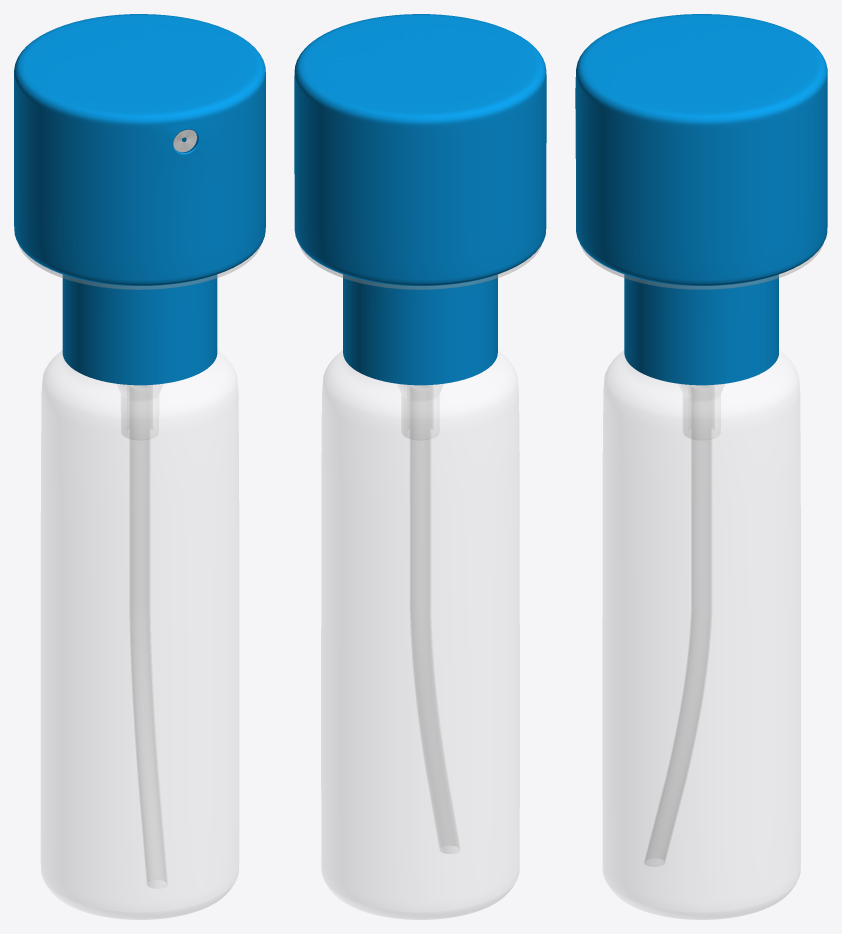
Rendered from Spray-Navy-refill.glb.
The picture shows the model from 3 angles, left to right: view 1: azimuth 30°, elevation 25°; view 2: azimuth 150°, elevation 25°; view 3: azimuth 270°, elevation 25°; orthographic projection.
Visible parts, largest first — view 1: BodyTop.024, BodyTop.023, BodyTop.030, BodyTop.028, BodyTop.027; view 2: BodyTop.024, BodyTop.023, BodyTop.030, BodyTop.028, BodyTop.027; view 3: BodyTop.024, BodyTop.023, BodyTop.030, BodyTop.028, BodyTop.027.
Boxes of the visible parts, x1,y1,x2,y2 form: BodyTop.024: [41, 351, 238, 919]; BodyTop.023: [14, 14, 265, 385]; BodyTop.030: [130, 386, 167, 887]; BodyTop.028: [117, 384, 162, 439]; BodyTop.027: [19, 245, 260, 289]; BodyTop.024: [321, 351, 519, 919]; BodyTop.023: [294, 14, 546, 385]; BodyTop.030: [410, 385, 459, 853]; BodyTop.028: [398, 384, 442, 439]; BodyTop.027: [299, 245, 541, 289]; BodyTop.024: [602, 350, 800, 919]; BodyTop.023: [575, 14, 827, 385]; BodyTop.030: [644, 385, 711, 866]; BodyTop.028: [679, 384, 724, 439]; BodyTop.027: [580, 245, 822, 289].
Bounding box in the file's own units: 0.7572 × 2.72 × 0.7587.
